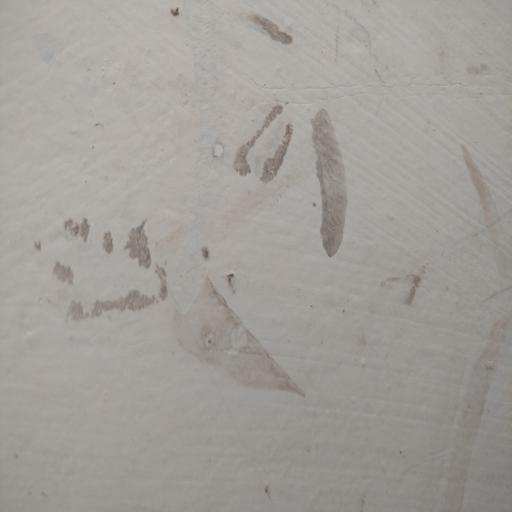stain: (52, 3, 512, 443)
